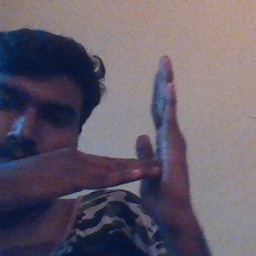Z: (91, 52, 197, 231)
